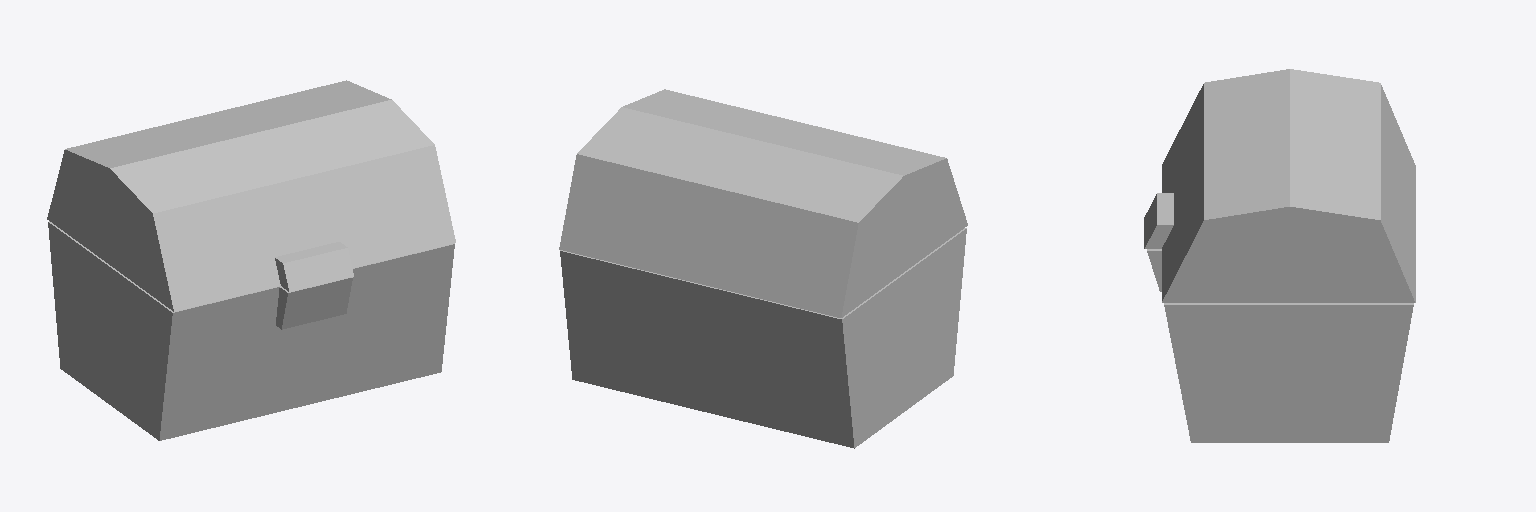
Rendered from treasurechest.obj.
3 renders of one model, left to right at view 1: azimuth 30°, elevation 25°; view 2: azimuth 150°, elevation 25°; view 3: azimuth 270°, elevation 25°, orthographic.
Parts seen in each view (by area): view 1: DrawCall_18, DrawCall_19; view 2: DrawCall_18; view 3: DrawCall_18, DrawCall_19.
Boxes of the visible parts, <box> form: DrawCall_18: <box>47,80,455,440</box>; DrawCall_19: <box>275,242,353,329</box>; DrawCall_18: <box>559,89,967,448</box>; DrawCall_18: <box>1162,69,1415,442</box>; DrawCall_19: <box>1144,193,1173,291</box>.
Size of the model in its own units: 2.53 by 2.02 by 2.1.